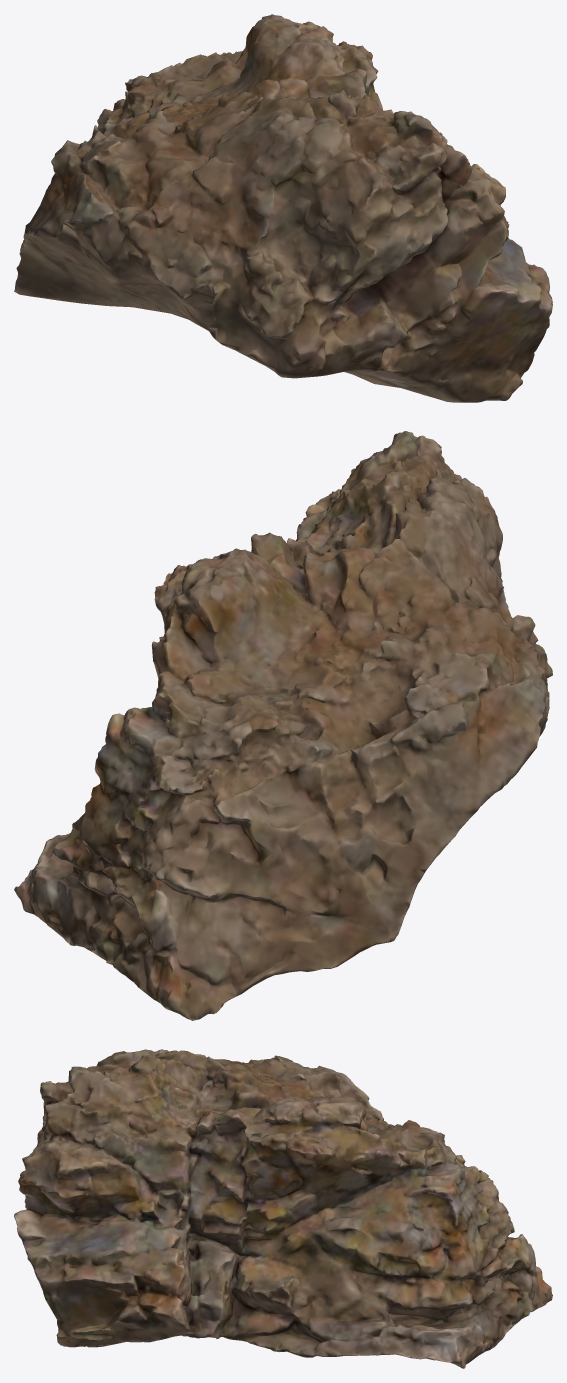
The model's file is boulder-far.glb.
3 renders of one model, top to bottom at view 1: azimuth 30°, elevation 25°; view 2: azimuth 150°, elevation 25°; view 3: azimuth 270°, elevation 25°, orthographic. The views are drawn at different scales.
Parts seen in each view (by area): view 1: boulder_01; view 2: boulder_01; view 3: boulder_01.
Boxes of the visible parts, box(x1,y1,x2,y2) form: boulder_01: box(14, 14, 552, 402); boulder_01: box(14, 431, 552, 1020); boulder_01: box(14, 1049, 552, 1368).
Size of the model in its own units: 1.27 by 1 by 1.83.
Materials: 1 (1 with a texture image).
